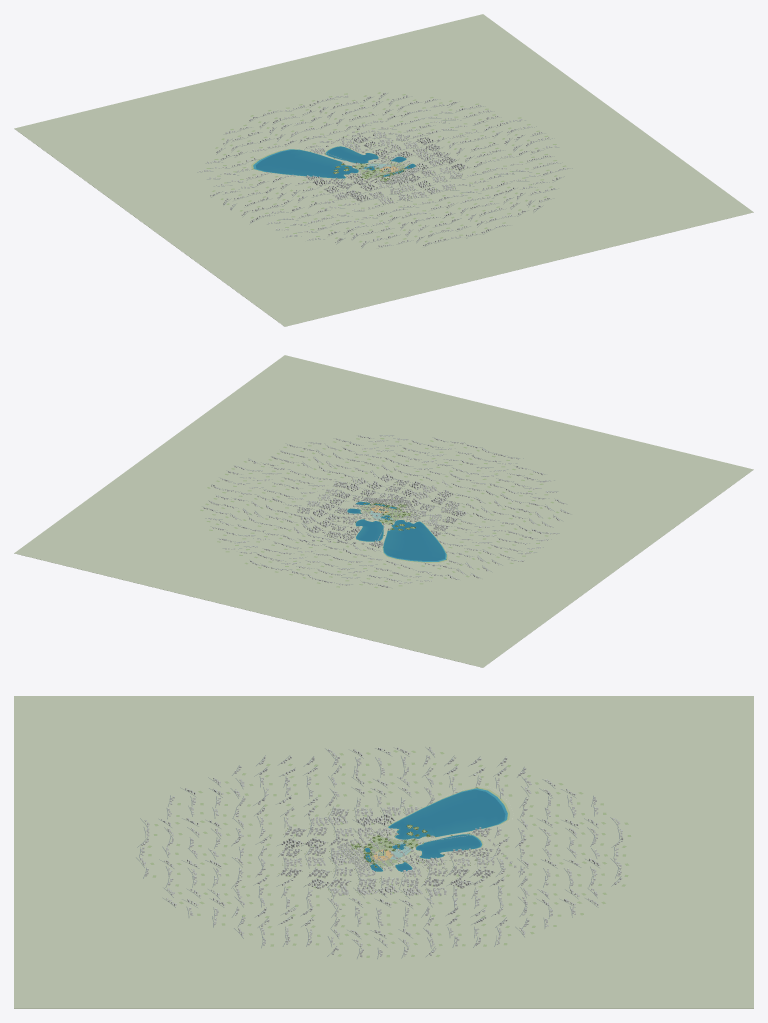
Rendered from city.glb.
3 renders of one model, top to bottom at view 1: azimuth 30°, elevation 25°; view 2: azimuth 150°, elevation 25°; view 3: azimuth 270°, elevation 25°, orthographic. The views are drawn at different scales.
Visible parts, largest first — view 1: regional_terrain_ground, regional_context_building, regional_context_roads_road, regional_context_roof, regional_terrain_waterDeep, regional_context_greens_grass, regional_buildings_building; view 2: regional_terrain_ground, regional_context_building, regional_context_roof, regional_terrain_waterDeep, regional_context_roads_road, regional_context_greens_grass, regional_buildings_building; view 3: regional_terrain_ground, regional_context_building, regional_context_roof, regional_terrain_waterDeep, regional_context_roads_road, regional_context_greens_grass, regional_buildings_building, regional_buildings_roof.
Boxes of the visible parts, x1=… form: regional_terrain_ground: x1=14, y1=14, x2=753, y2=326; regional_context_building: x1=199, y1=93, x2=568, y2=246; regional_context_roads_road: x1=197, y1=93, x2=572, y2=248; regional_context_roof: x1=199, y1=92, x2=567, y2=246; regional_terrain_waterDeep: x1=256, y1=146, x2=415, y2=178; regional_context_greens_grass: x1=206, y1=92, x2=566, y2=243; regional_buildings_building: x1=316, y1=126, x2=420, y2=184; regional_terrain_ground: x1=14, y1=355, x2=753, y2=667; regional_context_building: x1=203, y1=435, x2=568, y2=587; regional_context_roof: x1=203, y1=434, x2=568, y2=586; regional_terrain_waterDeep: x1=347, y1=501, x2=445, y2=560; regional_context_roads_road: x1=202, y1=435, x2=571, y2=588; regional_context_greens_grass: x1=200, y1=438, x2=559, y2=588; regional_buildings_building: x1=303, y1=497, x2=422, y2=545; regional_terrain_ground: x1=14, y1=696, x2=753, y2=1008; regional_context_building: x1=140, y1=747, x2=623, y2=957; regional_context_roof: x1=140, y1=746, x2=622, y2=955; regional_terrain_waterDeep: x1=365, y1=789, x2=505, y2=871; regional_context_roads_road: x1=136, y1=747, x2=622, y2=959; regional_context_greens_grass: x1=147, y1=750, x2=631, y2=957; regional_buildings_building: x1=337, y1=825, x2=520, y2=872; regional_buildings_roof: x1=337, y1=828, x2=520, y2=872.
Size of the model in its own units: 39000 by 163 by 39000.
